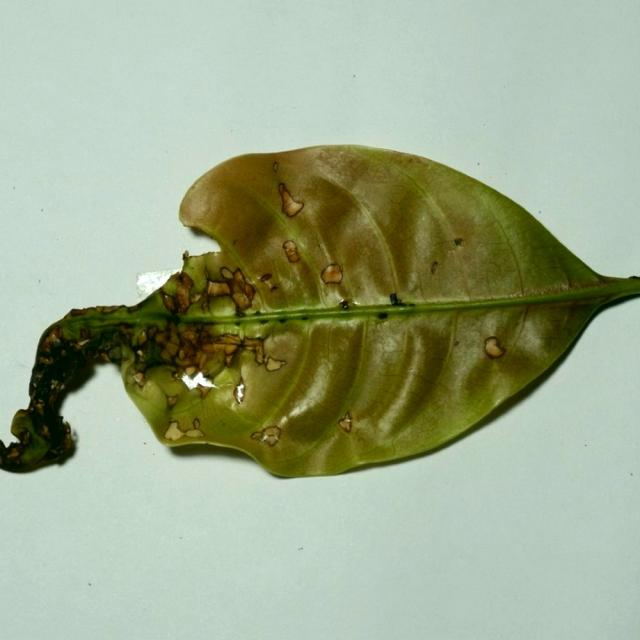Anthracnose: (164, 259, 260, 325), (162, 325, 250, 378), (164, 329, 225, 375), (63, 304, 132, 333), (162, 272, 196, 314), (199, 332, 244, 358), (250, 339, 286, 370), (110, 322, 141, 355), (204, 270, 232, 302), (176, 329, 202, 360), (39, 327, 64, 356), (2, 439, 28, 465), (154, 329, 171, 351), (162, 339, 180, 359), (174, 353, 196, 368), (168, 323, 181, 348)
Mango: (0, 145, 639, 483)
